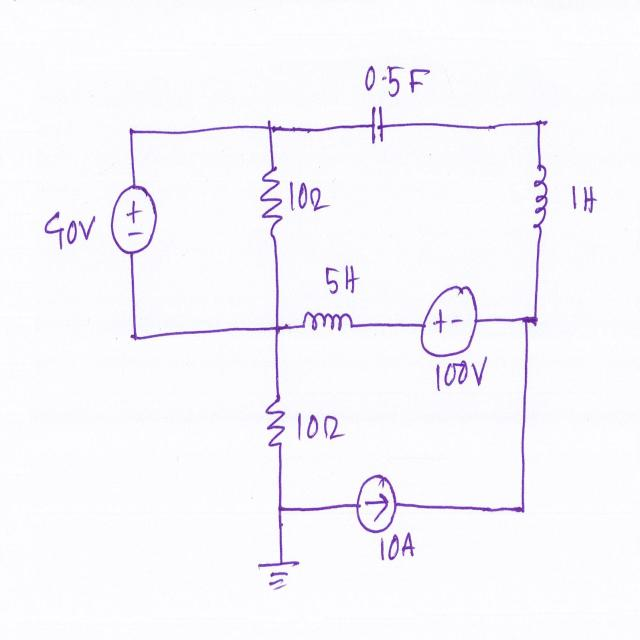capacitor: (367, 98, 388, 151)
current_source: (352, 466, 401, 537)
ground: (250, 547, 308, 598)
inductor: (520, 161, 552, 243), (297, 306, 357, 347)
resistor: (260, 167, 288, 245), (261, 387, 288, 450)
voltage_source: (418, 282, 487, 360), (106, 177, 162, 261)
